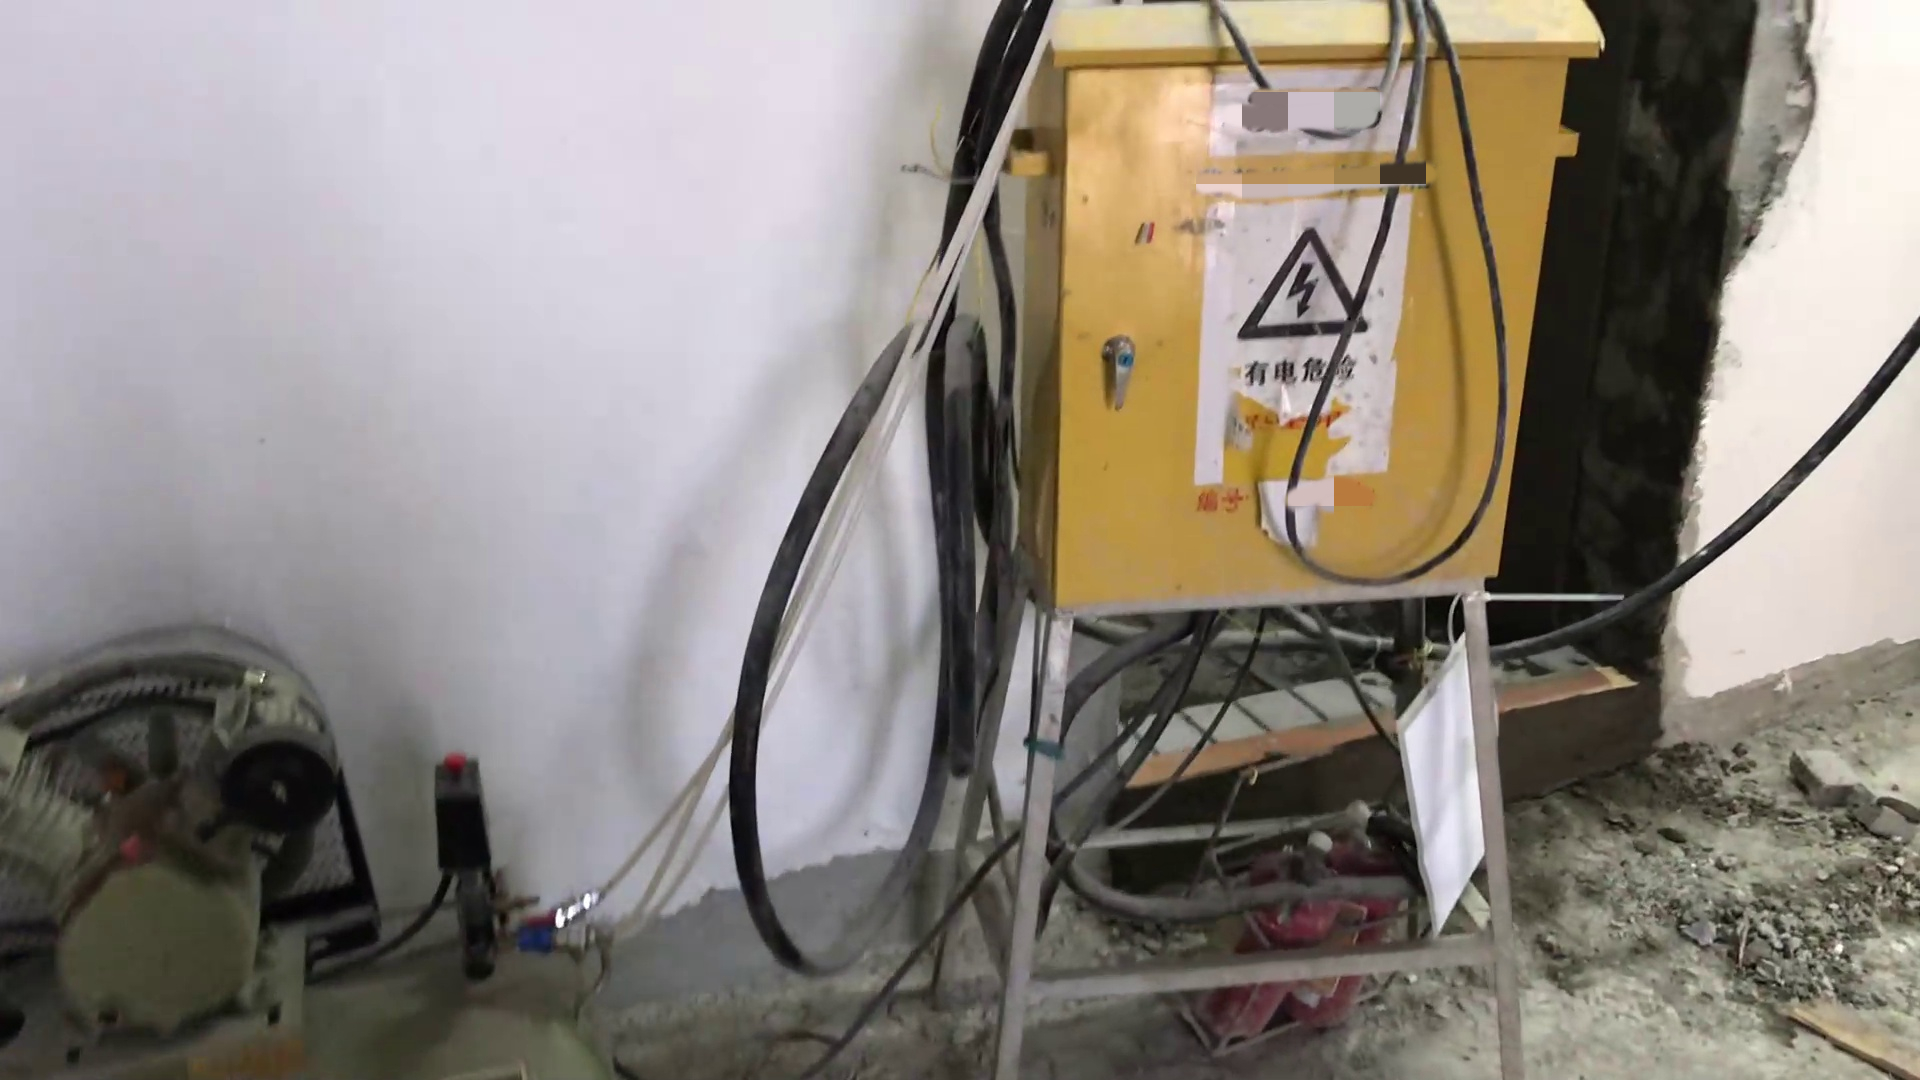ebox: (967, 7, 1563, 1080)
